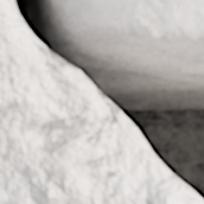brick: (66, 0, 203, 45)
crack: (0, 0, 203, 203)
